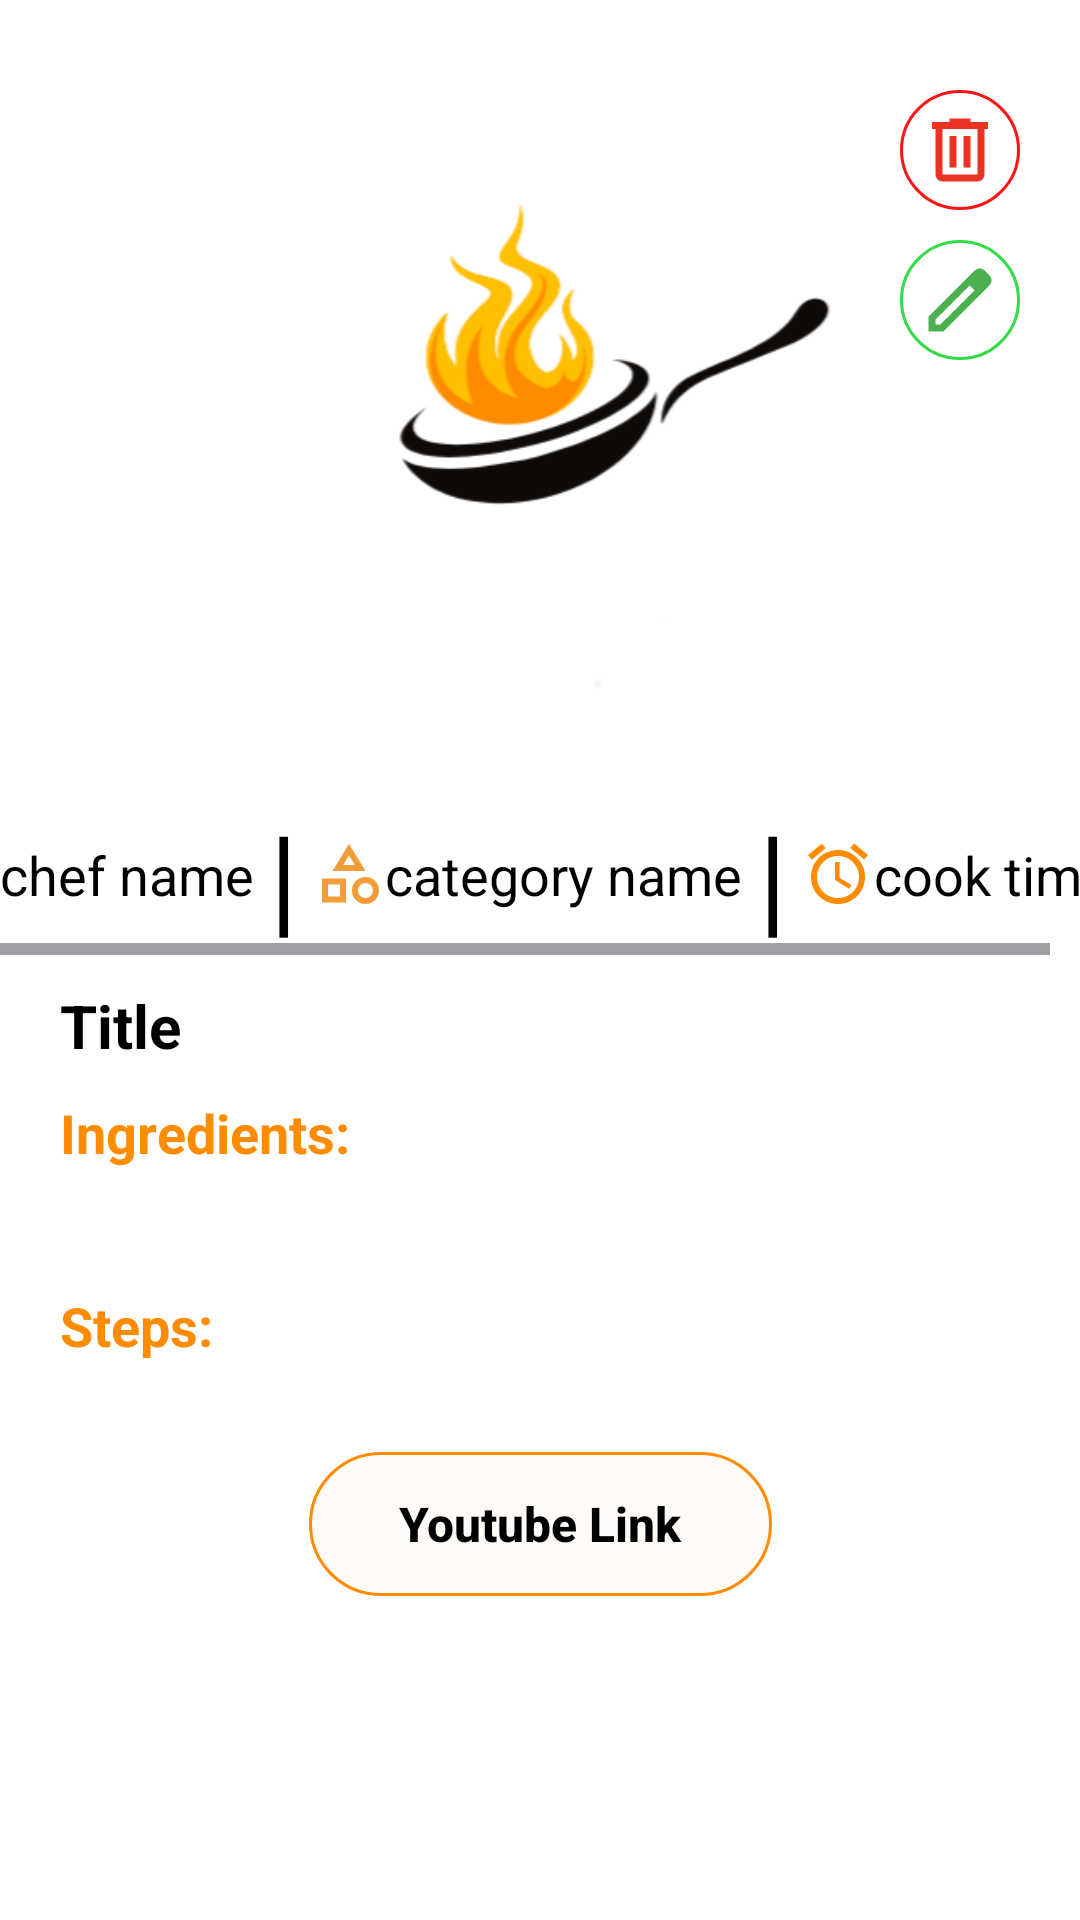

Locate icon controls on the screen. Image size 1080x1920, boxes as {"left": x1, "top": y1, "right": x2, "bottom": y2}.
delete: {"left": 900, "top": 90, "right": 1020, "bottom": 210}
edit: {"left": 900, "top": 240, "right": 1020, "bottom": 360}
